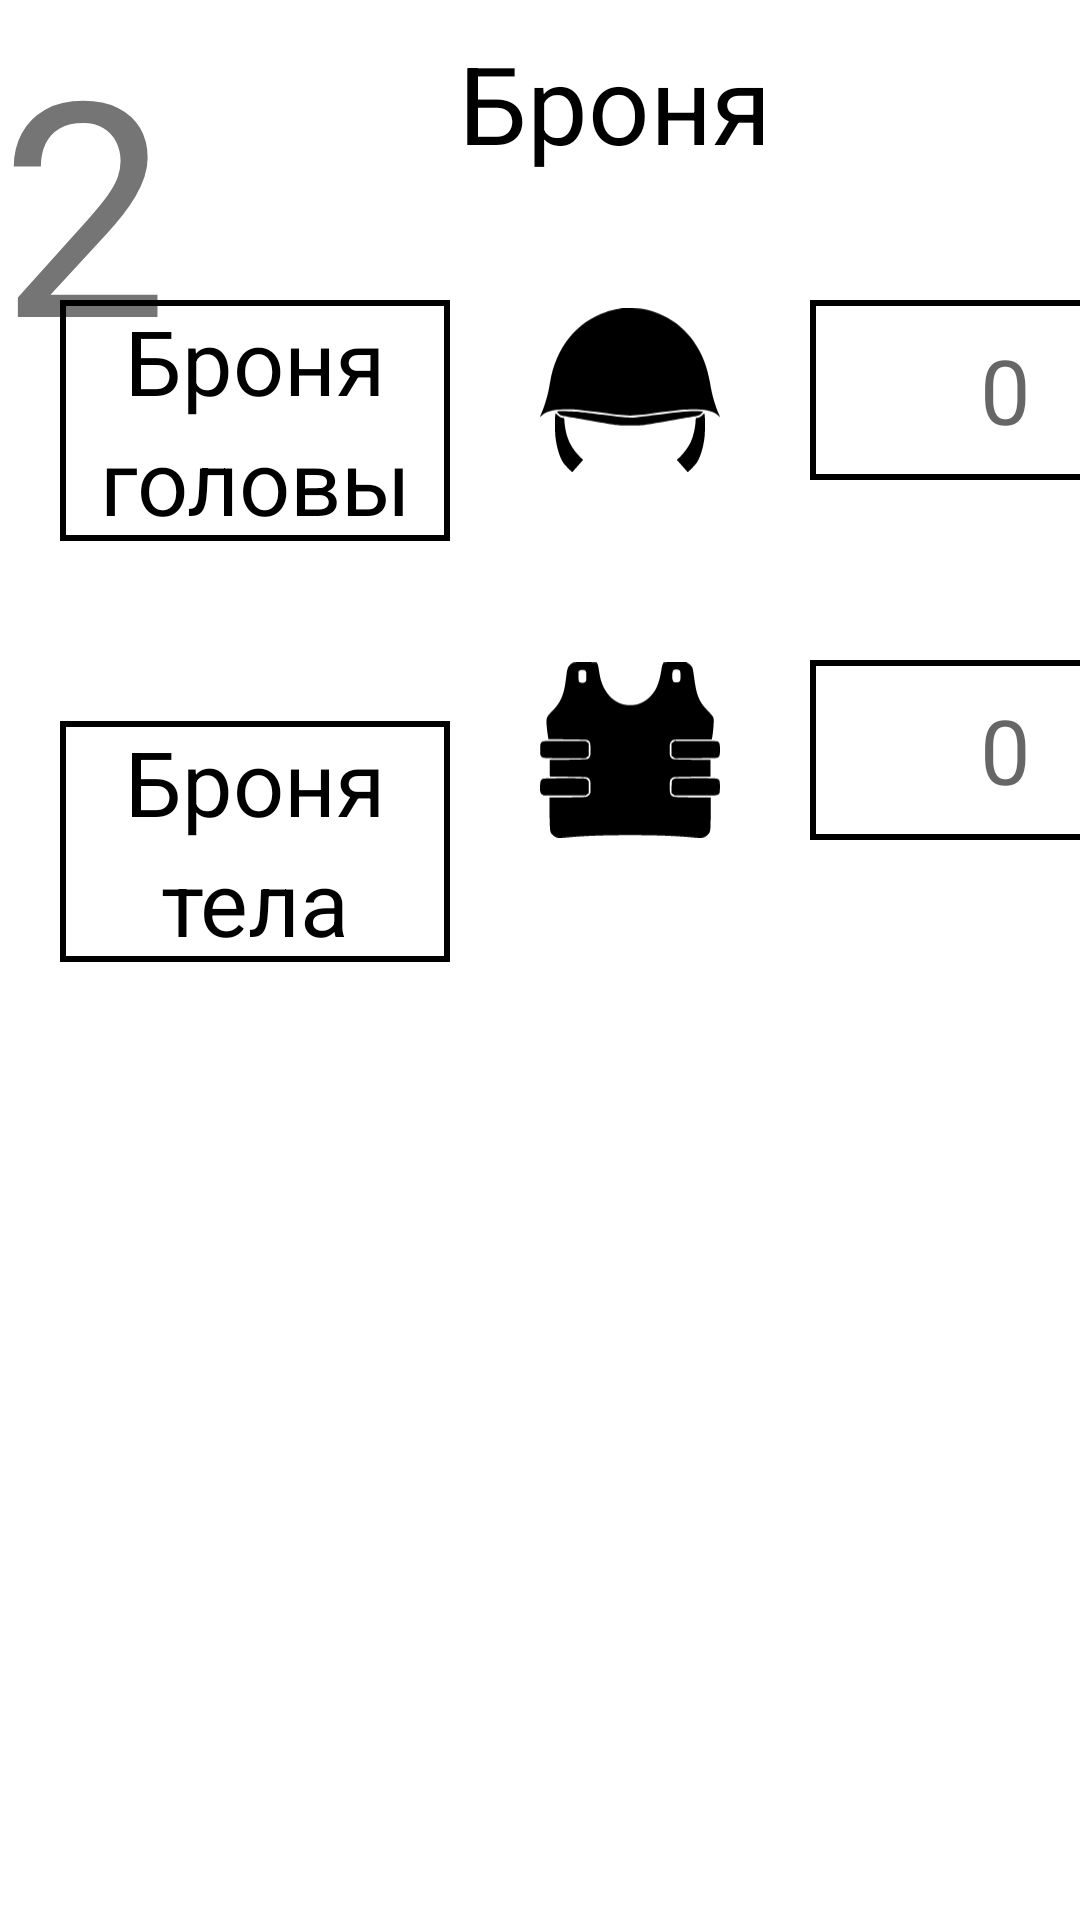

Icons on this 1080px x 1920px Android screen, each with its box as (x1, y1, x2, y2):
bronejilet: (540, 662, 720, 838)
kaska: (540, 308, 720, 472)
